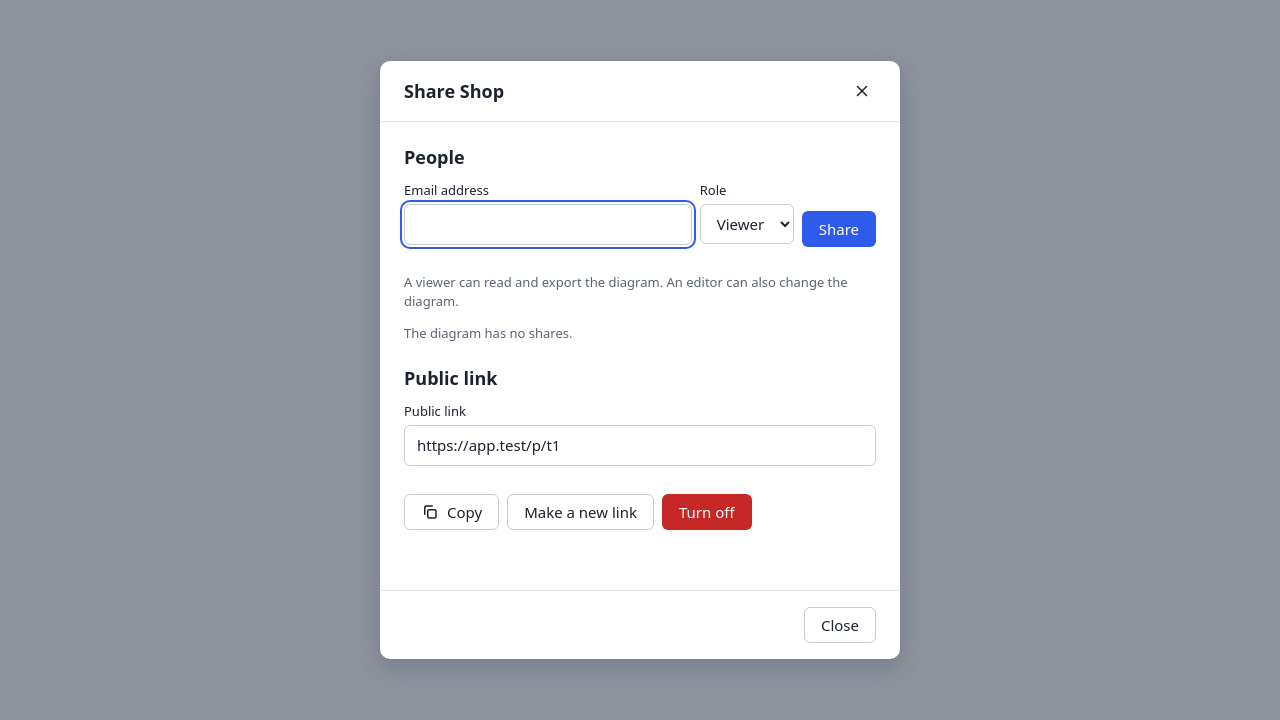
Test: shares (spec) › SHR-004 an owner turns off the public link
Click the button "Turn off": (707, 512) [662,494,752,530]
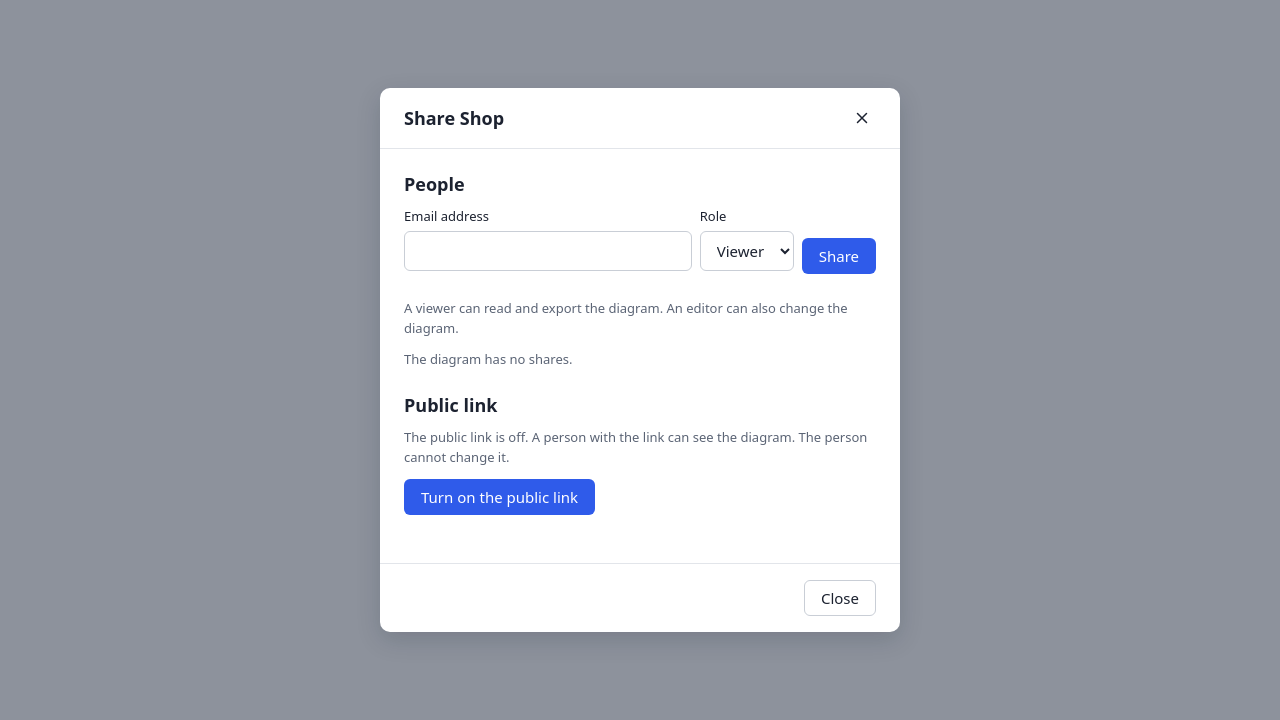
Expected: the field showing "https://app.test/p/t1" is not shown
Expected: the text "The public link is off. A person with the link can see the diagram. The person cannot change it." is shown, [404,428,867,466]
